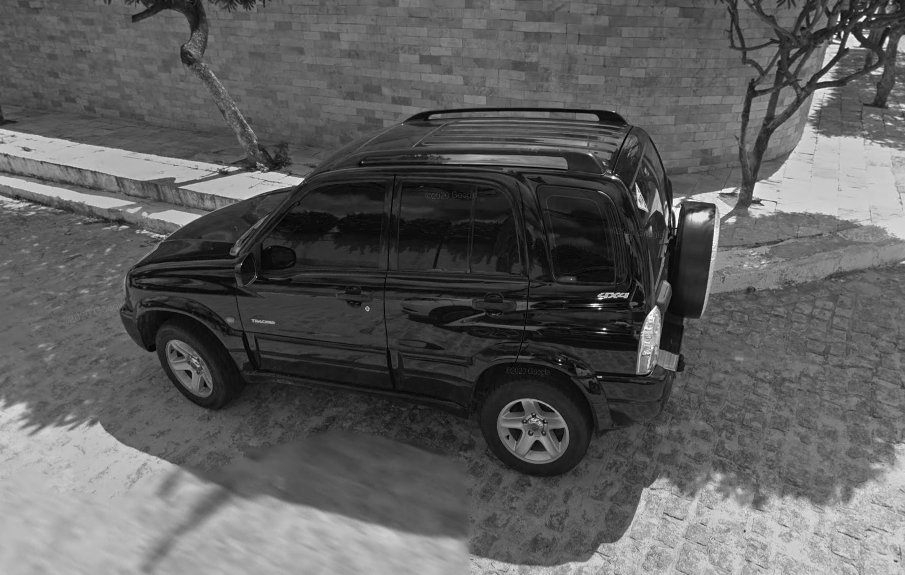car: (113, 104, 723, 479)
